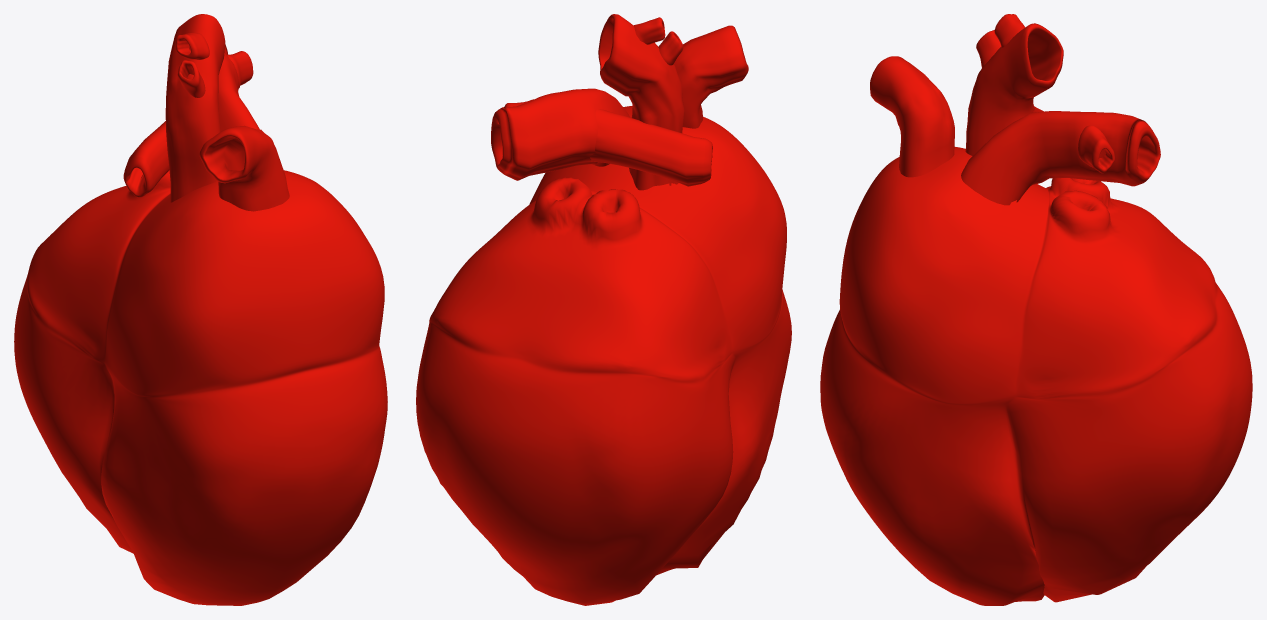
Rendered from myheart.fbx.
3 renders of one model, left to right at view 1: azimuth 30°, elevation 25°; view 2: azimuth 150°, elevation 25°; view 3: azimuth 270°, elevation 25°, orthographic.
Parts seen in each view (by area): view 1: Quad Sphere, Sphere.001; view 2: Quad Sphere, Sphere.001; view 3: Quad Sphere, Sphere.001.
Part boxes in pixels (bbox=[...]): Quad Sphere: bbox=[14, 170, 387, 605]; Sphere.001: bbox=[123, 14, 289, 211]; Quad Sphere: bbox=[416, 105, 791, 605]; Sphere.001: bbox=[491, 14, 748, 190]; Quad Sphere: bbox=[820, 147, 1252, 605]; Sphere.001: bbox=[870, 14, 1160, 205].
Size of the model in its own units: 435 by 879 by 602.
